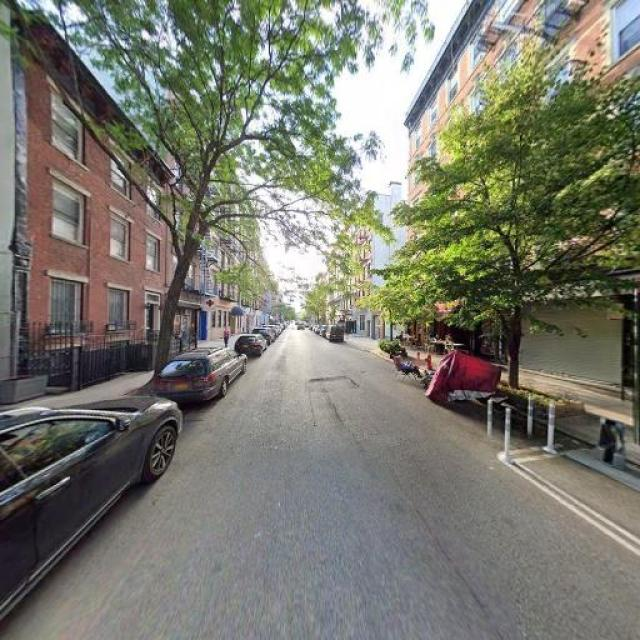Building: (410, 1, 640, 395), (29, 1, 163, 373)
